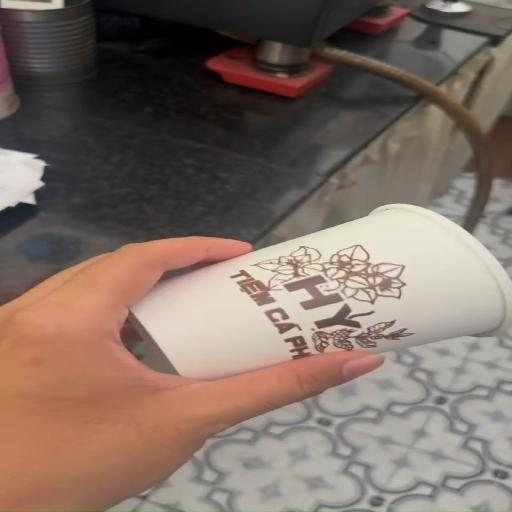Ly_giay: (131, 204, 511, 379)
